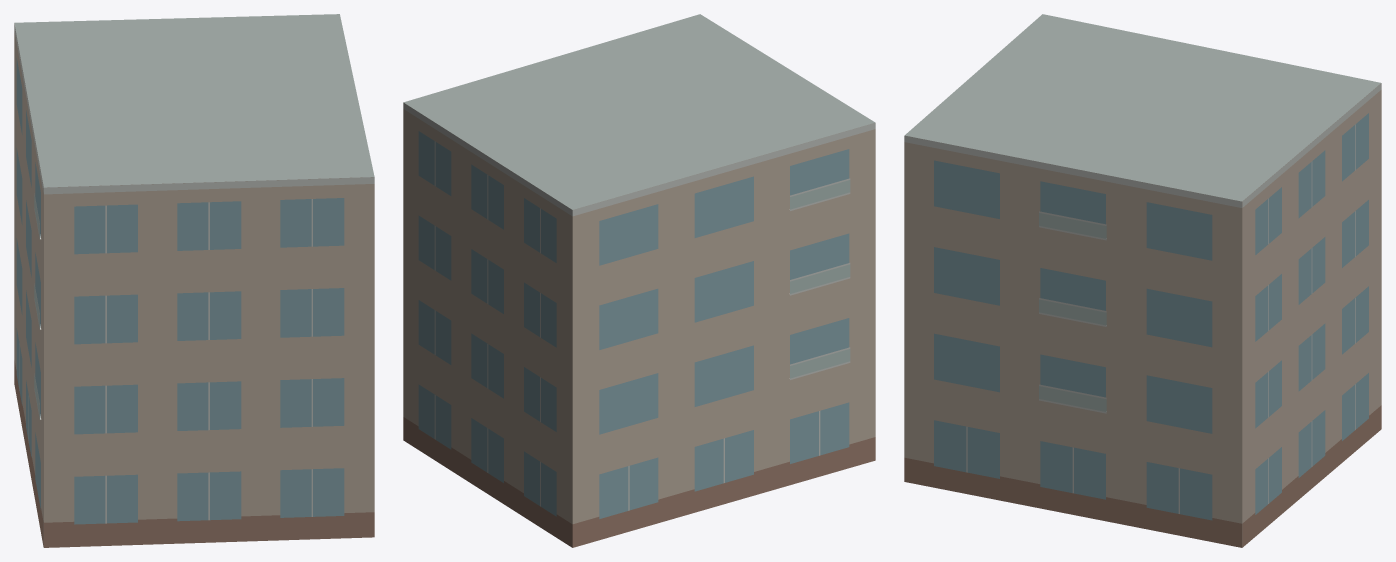
File: survey-upis-32968681.glb
3 views of the same model, side by side, from view 1: azimuth 30°, elevation 25°; view 2: azimuth 150°, elevation 25°; view 3: azimuth 270°, elevation 25° (orthographic). The views are drawn at different scales.
Visible parts, largest first — view 1: survey-upis-32968681.tmp; view 2: survey-upis-32968681.tmp; view 3: survey-upis-32968681.tmp.
Part boxes in pixels (x1,y1,x2,y2): survey-upis-32968681.tmp: (14, 14, 374, 547); survey-upis-32968681.tmp: (403, 14, 875, 547); survey-upis-32968681.tmp: (904, 14, 1381, 547).
Bounding box in the file's own units: 14.87 × 12.8 × 15.99.
